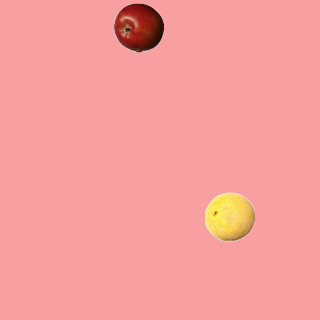Apple Braeburn: (113, 2, 163, 52)
Cantaloupe 1: (204, 191, 254, 241)
